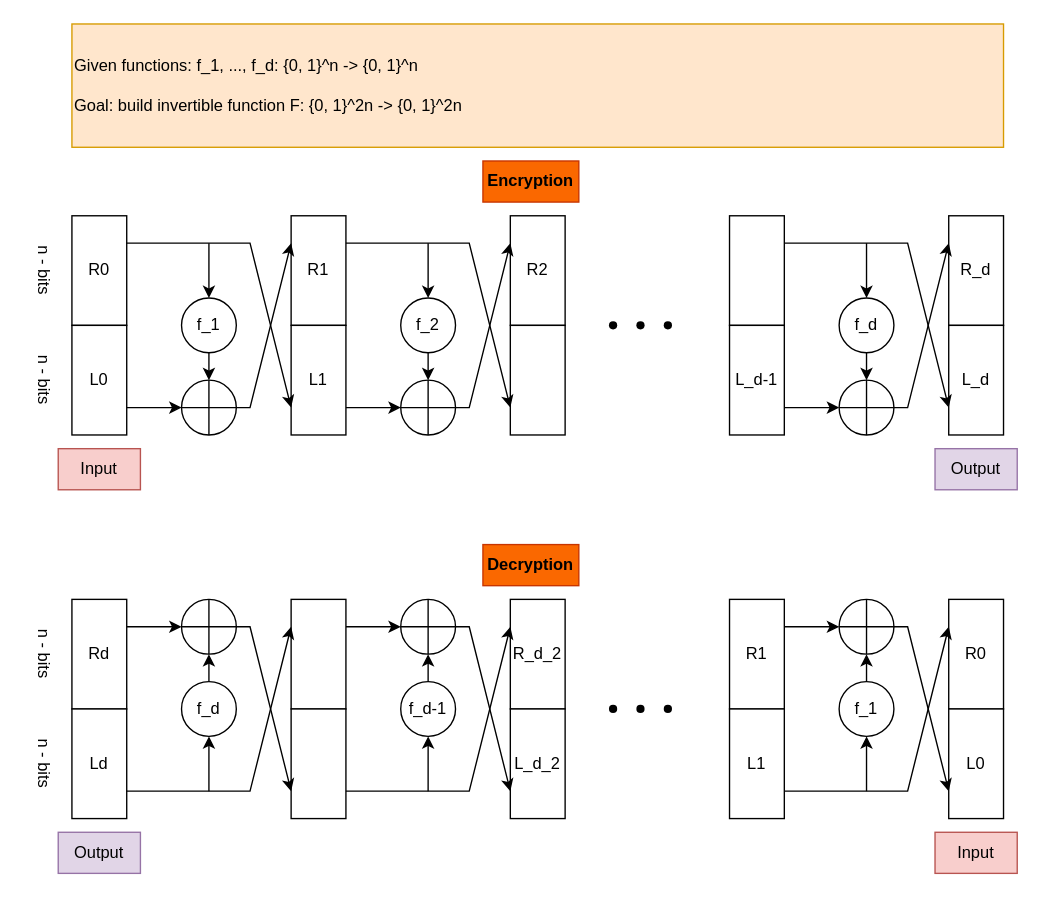
This 1041x897 diagram has some shape labels left out. Here are the shapes that lost their labels. From the top down, the box of each, then its label:
(728, 214, 784, 325): R_d-1
(509, 324, 565, 435): L2
(290, 598, 346, 709): R_d_1
(290, 708, 346, 819): L_d_1
